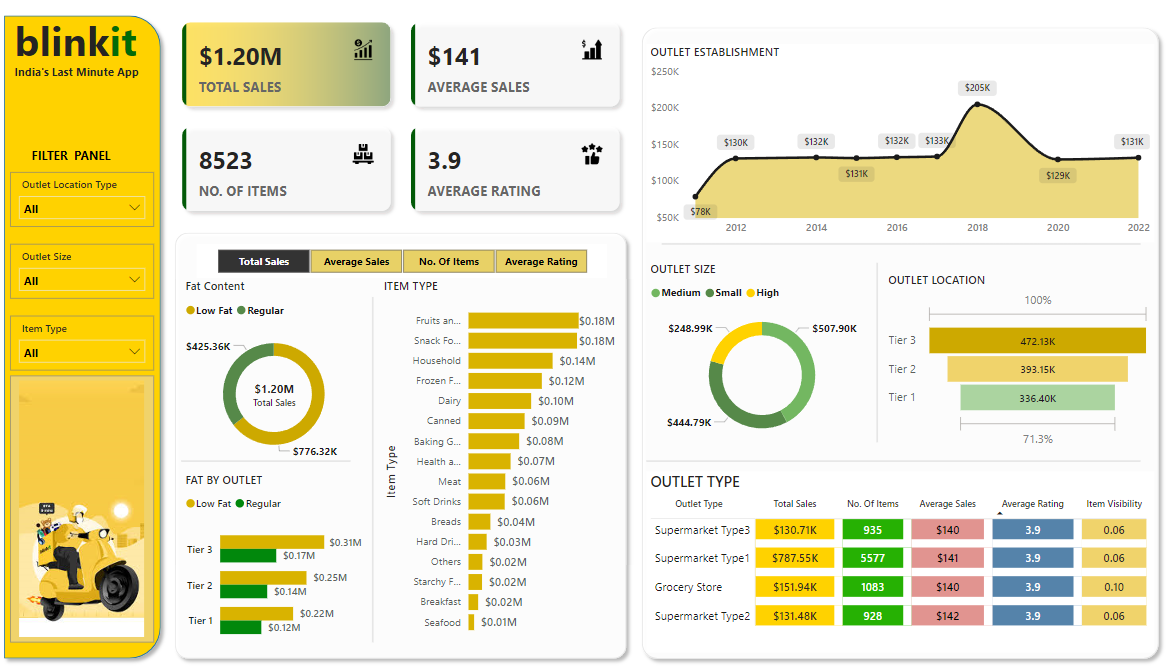

What the dashboard file says about the page in this screenshot:
{"tool":"powerbi","page":{"name":"Page 1","canvas":[1400,800],"ordinal":0},"visuals":[{"type":"shape","box":[10,14,204,782],"z":0},{"type":"textbox","box":[26,14,164,84],"z":1000},{"type":"textbox","box":[26,76,170,42],"z":2000},{"type":"cardVisual","fields":{"Data":["BlinkIT Grocery Data.Total Sales","BlinkIT Grocery Data.Average Sales","BlinkIT Grocery Data.No. Of Items","BlinkIT Grocery Data.Average Rating"]},"box":[214,14,554,258],"z":3000},{"type":"shape","box":[214,272,554,524],"z":4000},{"type":"donutChart","title":"Fat Content","fields":{"Y":["BlinkIT Grocery Data.Total Sales"],"Category":["BlinkIT Grocery Data.Item Fat Content"]},"box":[229.6,335.2,219.4,229.6],"z":5000},{"type":"slicer","fields":{"Values":["Metrics.Metrics"]},"box":[247.9,294.6,487.6,40.6],"z":6000},{"type":"cardVisual","fields":{"Data":["BlinkIT Grocery Data.Total Sales"]},"box":[272.3,430.7,136.1,87.4],"z":7000},{"type":"clusteredBarChart","title":"FAT BY OUTLET","fields":{"Y":["BlinkIT Grocery Data.Total Sales"],"Category":["BlinkIT Grocery Data.Outlet Location Type"],"Series":["BlinkIT Grocery Data.Item Fat Content"]},"box":[229.6,564.8,219.4,217.4],"z":8000},{"type":"shape","box":[229.6,530.3,201.1,44.7],"z":9000},{"type":"shape","box":[449,357.6,16.3,410.4],"z":10000},{"type":"barChart","title":"ITEM TYPE","fields":{"Y":["BlinkIT Grocery Data.Total Sales"],"Category":["BlinkIT Grocery Data.Item Type"]},"box":[465.3,335.2,284.4,432.8],"z":11000},{"type":"shape","box":[768,28.4,631.9,768],"z":12000},{"type":"lineChart","title":"OUTLET ESTABLISHMENT","fields":{"Category":["BlinkIT Grocery Data.Outlet Establishment Year"],"Y":["BlinkIT Grocery Data.Total Sales"]},"box":[782.2,56.9,603.4,235.7],"z":13000},{"type":"shape","box":[800.5,272.3,568.9,44.7],"z":14000},{"type":"donutChart","title":"OUTLET SIZE","fields":{"Y":["BlinkIT Grocery Data.Total Sales"],"Category":["BlinkIT Grocery Data.Outlet Size"]},"box":[782.2,314.9,274.3,225.5],"z":15000},{"type":"shape","box":[1048.4,317,16.3,213.3],"z":16000},{"type":"funnel","title":"OUTLET LOCATION","fields":{"Category":["BlinkIT Grocery Data.Outlet Location Type"],"Y":["Sum(BlinkIT Grocery Data.Sales)"]},"box":[1064.6,327.1,321,213.3],"z":17000},{"type":"shape","box":[782.2,530.3,587.2,44.7],"z":18000},{"type":"pivotTable","title":"OUTLET TYPE","fields":{"Rows":["BlinkIT Grocery Data.Outlet Type"],"Values":["BlinkIT Grocery Data.Total Sales","BlinkIT Grocery Data.No. Of Items","BlinkIT Grocery Data.Average Sales","BlinkIT Grocery Data.Average Rating","Avg(BlinkIT Grocery Data.Item Visibility)"]},"box":[782.2,564.8,603.4,215.4],"z":19000},{"type":"slicer","fields":{"Values":["BlinkIT Grocery Data.Outlet Location Type"]},"box":[26.4,209.3,170.7,65],"z":20000},{"type":"slicer","fields":{"Values":["BlinkIT Grocery Data.Outlet Size"]},"box":[26.4,294.6,170.7,65],"z":20001},{"type":"slicer","fields":{"Values":["BlinkIT Grocery Data.Item Type"]},"box":[26.4,379.9,170.7,65],"z":20002},{"type":"textbox","box":[46.7,174.7,150.3,34.5],"z":20003},{"type":"image","box":[26.4,451,170.7,317],"z":20004}]}

Visuals, with their boxes in screenshot pixels (x1, y1, x2, y2), scaled from the page's 1400x800 canvas onto the 1166x668 screenshot:
shape: [left=8, top=12, right=178, bottom=665]
textbox: [left=22, top=12, right=158, bottom=82]
textbox: [left=22, top=63, right=163, bottom=99]
cardVisual - BlinkIT Grocery Data.Total Sales x BlinkIT Grocery Data.Average Sales: [left=178, top=12, right=640, bottom=227]
shape: [left=178, top=227, right=640, bottom=665]
"Fat Content" donutChart: [left=191, top=280, right=374, bottom=472]
slicer - Metrics.Metrics: [left=206, top=246, right=613, bottom=280]
cardVisual - BlinkIT Grocery Data.Total Sales: [left=227, top=360, right=340, bottom=433]
"FAT BY OUTLET" clusteredBarChart: [left=191, top=472, right=374, bottom=653]
shape: [left=191, top=443, right=359, bottom=480]
shape: [left=374, top=299, right=388, bottom=641]
"ITEM TYPE" barChart: [left=388, top=280, right=624, bottom=641]
shape: [left=640, top=24, right=1165, bottom=665]
"OUTLET ESTABLISHMENT" lineChart: [left=651, top=48, right=1154, bottom=244]
shape: [left=667, top=227, right=1141, bottom=265]
"OUTLET SIZE" donutChart: [left=651, top=263, right=880, bottom=451]
shape: [left=873, top=265, right=887, bottom=443]
"OUTLET LOCATION" funnel: [left=887, top=273, right=1154, bottom=451]
shape: [left=651, top=443, right=1141, bottom=480]
"OUTLET TYPE" pivotTable: [left=651, top=472, right=1154, bottom=651]
slicer - BlinkIT Grocery Data.Outlet Location Type: [left=22, top=175, right=164, bottom=229]
slicer - BlinkIT Grocery Data.Outlet Size: [left=22, top=246, right=164, bottom=300]
slicer - BlinkIT Grocery Data.Item Type: [left=22, top=317, right=164, bottom=371]
textbox: [left=39, top=146, right=164, bottom=175]
image: [left=22, top=377, right=164, bottom=641]
